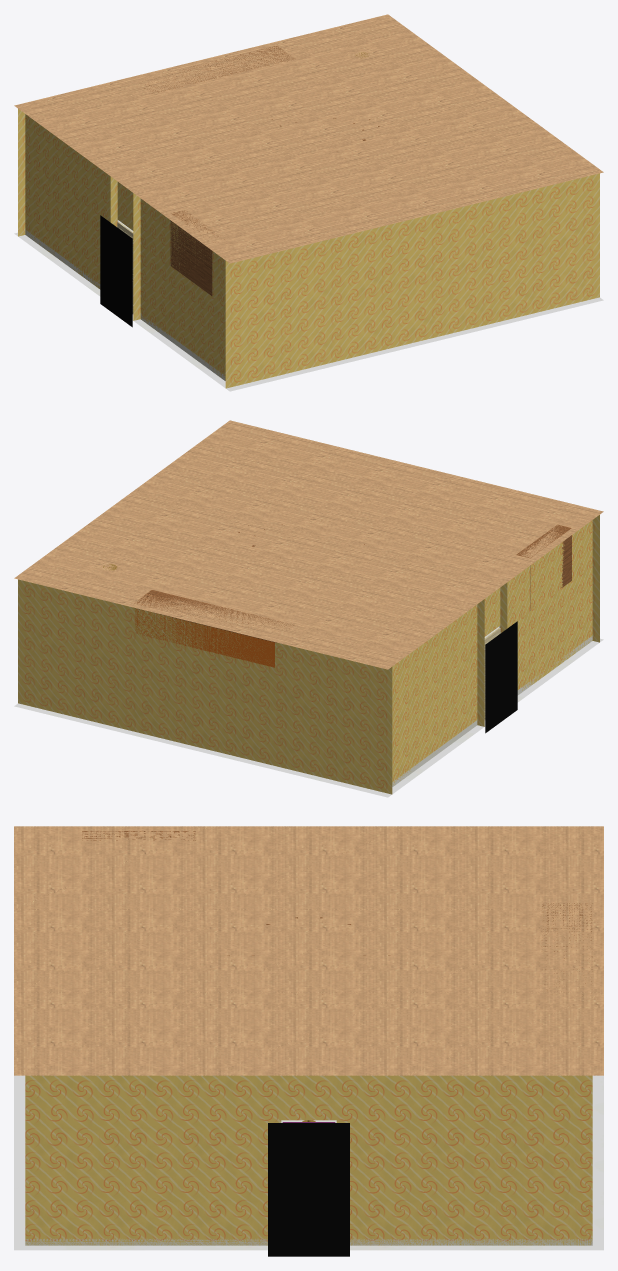
Rendered from rdwe_upside_room.glb.
3 renders of one model, top to bottom at view 1: azimuth 30°, elevation 25°; view 2: azimuth 150°, elevation 25°; view 3: azimuth 270°, elevation 25°, orthographic. The views are drawn at different scales.
Parts seen in each view (by area): view 1: Ceil_Floorboards, Wall_Sun_Damask, Floor_Ceiling_Plaster, Void, decor_Trick_Upside_Shelf, Trim_Yellow, decor_Trick_Upside_Sofa; view 2: Ceil_Floorboards, Wall_Sun_Damask, decor_Trick_Upside_Sofa, Floor_Ceiling_Plaster, Void, decor_Trick_Upside_Shelf, Trim_Yellow; view 3: Ceil_Floorboards, Wall_Sun_Damask, Void, Floor_Ceiling_Plaster, Trim_Yellow.
Part boxes in pixels (x1,y1,x2,y2): Ceil_Floorboards: [14, 14, 603, 263]; Wall_Sun_Damask: [18, 109, 599, 388]; Floor_Ceiling_Plaster: [14, 220, 603, 391]; Void: [100, 215, 132, 327]; decor_Trick_Upside_Shelf: [170, 210, 224, 295]; Trim_Yellow: [25, 220, 225, 380]; decor_Trick_Upside_Sofa: [144, 46, 294, 93]; Ceil_Floorboards: [14, 420, 603, 669]; Wall_Sun_Damask: [18, 515, 599, 794]; decor_Trick_Upside_Sofa: [133, 590, 294, 667]; Floor_Ceiling_Plaster: [14, 626, 603, 797]; Void: [485, 621, 517, 733]; decor_Trick_Upside_Shelf: [516, 524, 571, 610]; Trim_Yellow: [392, 626, 592, 786]; Ceil_Floorboards: [14, 826, 603, 1075]; Wall_Sun_Damask: [25, 1075, 592, 1245]; Void: [268, 1123, 349, 1256]; Floor_Ceiling_Plaster: [14, 1075, 603, 1250]; Trim_Yellow: [25, 1238, 592, 1245].
Size of the model in its own units: 10.7 by 3.45 by 10.4.
Materials: 23 (18 with a texture image).
